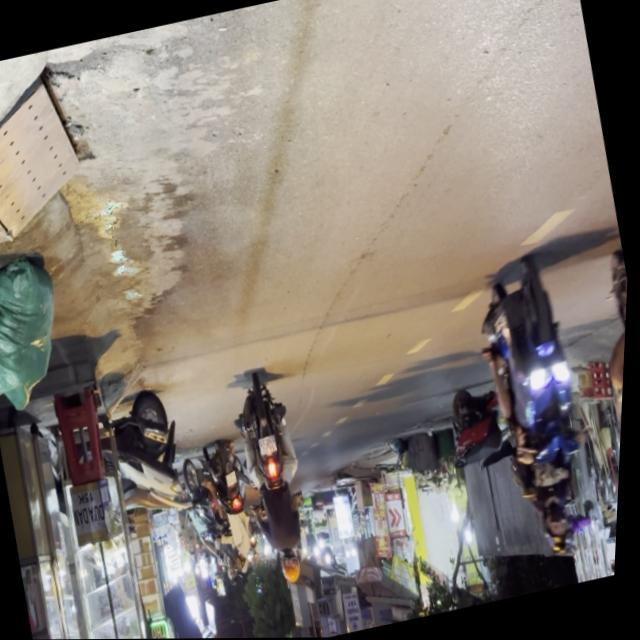helmet: (543, 503, 581, 557), (285, 551, 311, 586)
licenseplate: (460, 251, 623, 570), (226, 371, 332, 592), (573, 220, 632, 563)
nohelmet: (263, 436, 283, 457)
